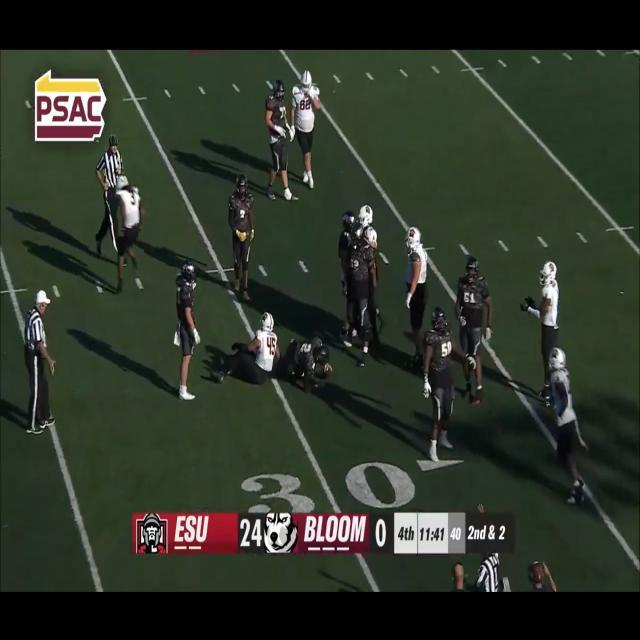football: (322, 362, 334, 376)
